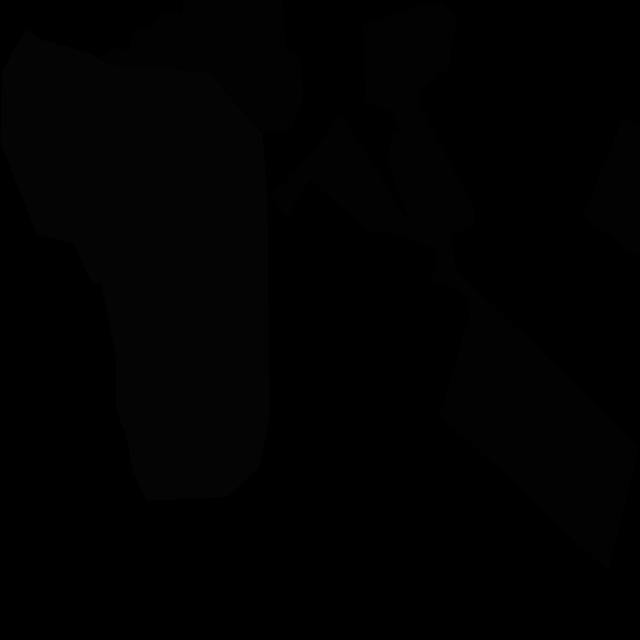cardboard: (272, 115, 640, 571), (99, 0, 304, 134), (386, 92, 475, 271), (363, 0, 457, 112), (582, 118, 640, 258)
soft_plastic: (0, 29, 270, 500)
